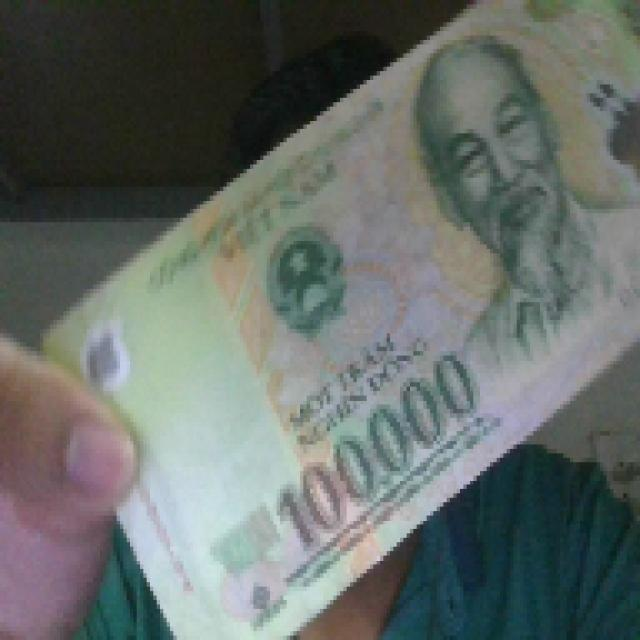100 000 VND: (36, 2, 636, 637)
